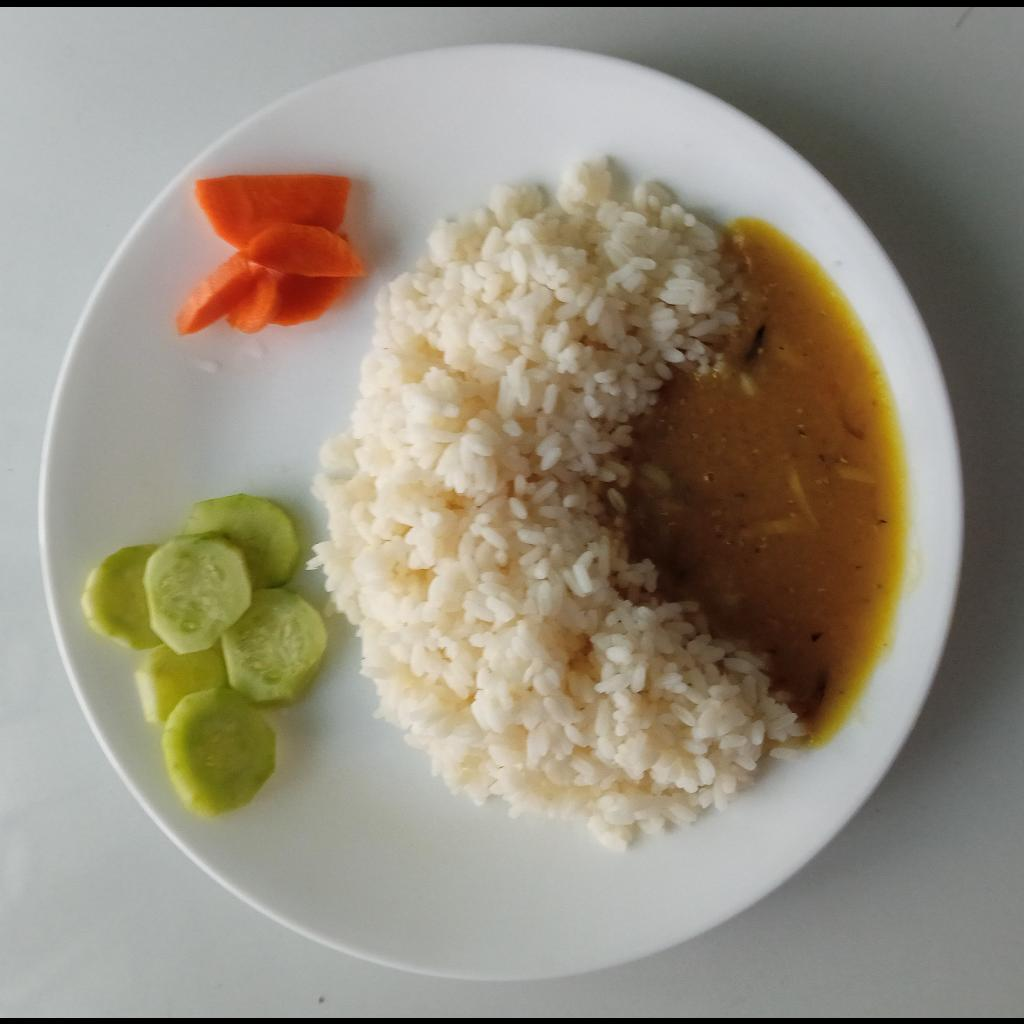carrot: (167, 172, 368, 335)
cucumber: (77, 489, 331, 820)
daal: (629, 224, 887, 726)
rice: (305, 158, 807, 849)
